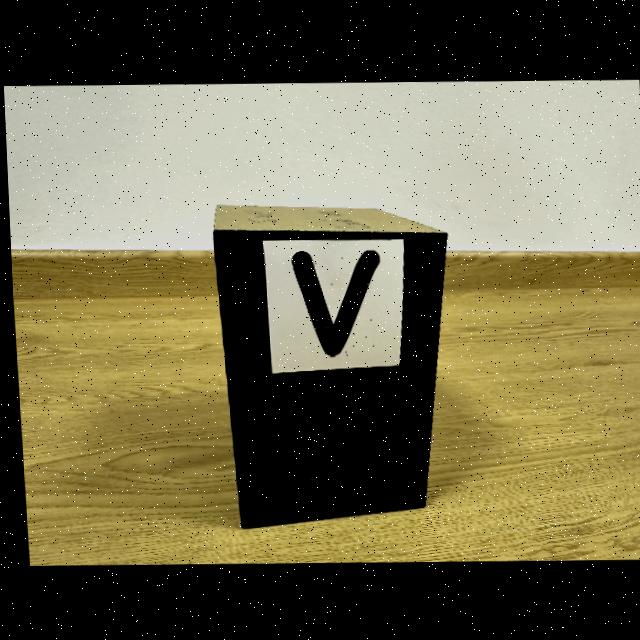V: (289, 250, 377, 355)
